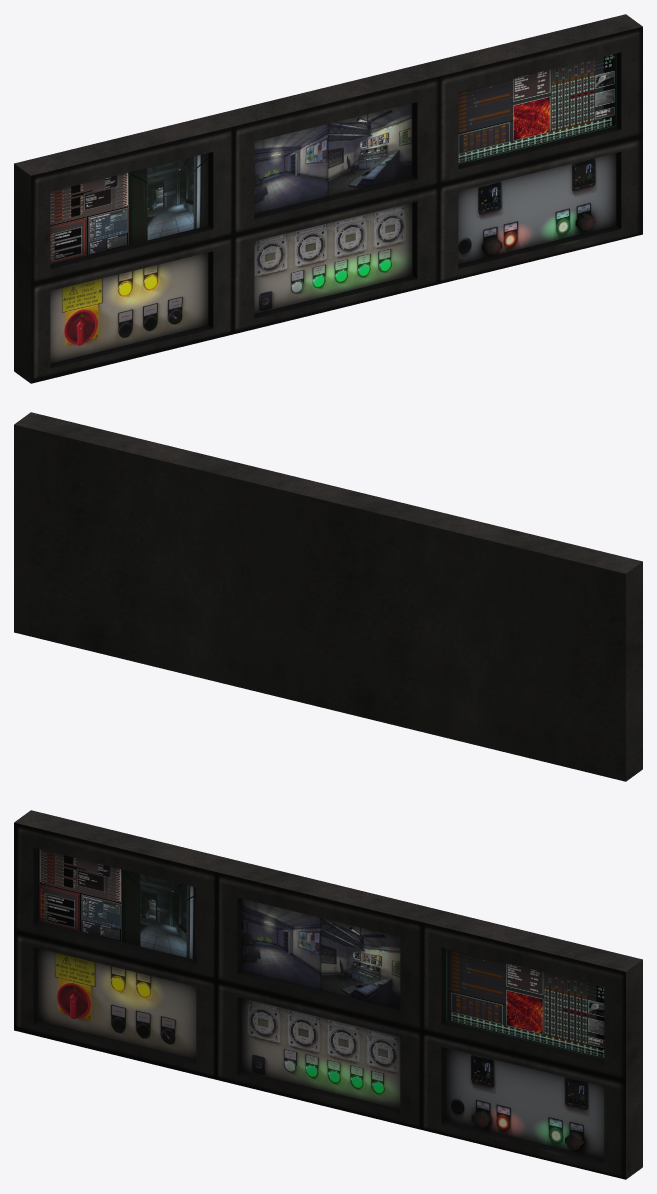
The model's file is techpanel.obj.
3 views of the same model, one above another, from view 1: azimuth 30°, elevation 25°; view 2: azimuth 150°, elevation 25°; view 3: azimuth 330°, elevation 25° (orthographic).
Visible parts, largest first — view 1: Group; view 2: Group; view 3: Group.
Part boxes in pixels (x1=…): Group: x1=14, y1=14, x2=642, y2=383; Group: x1=14, y1=412, x2=642, y2=781; Group: x1=14, y1=810, x2=642, y2=1179.
Size of the model in its own units: 91.04 by 29.54 by 4.38.
1 material, 1 textured.
